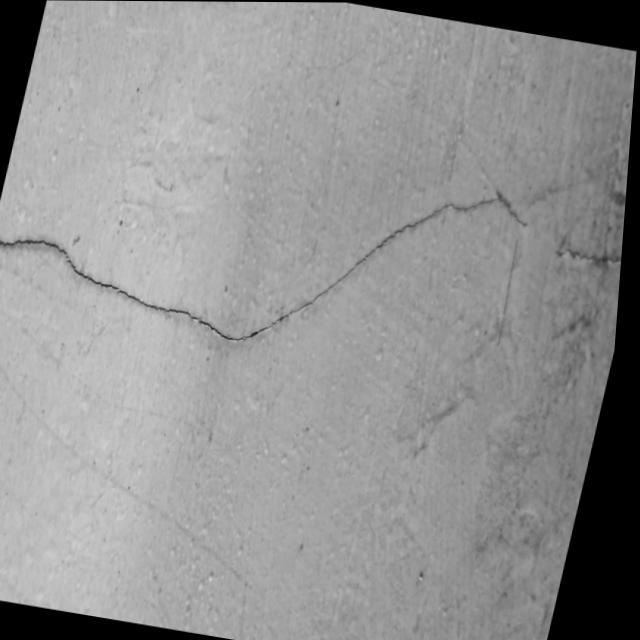Crack: (7, 176, 511, 350)
